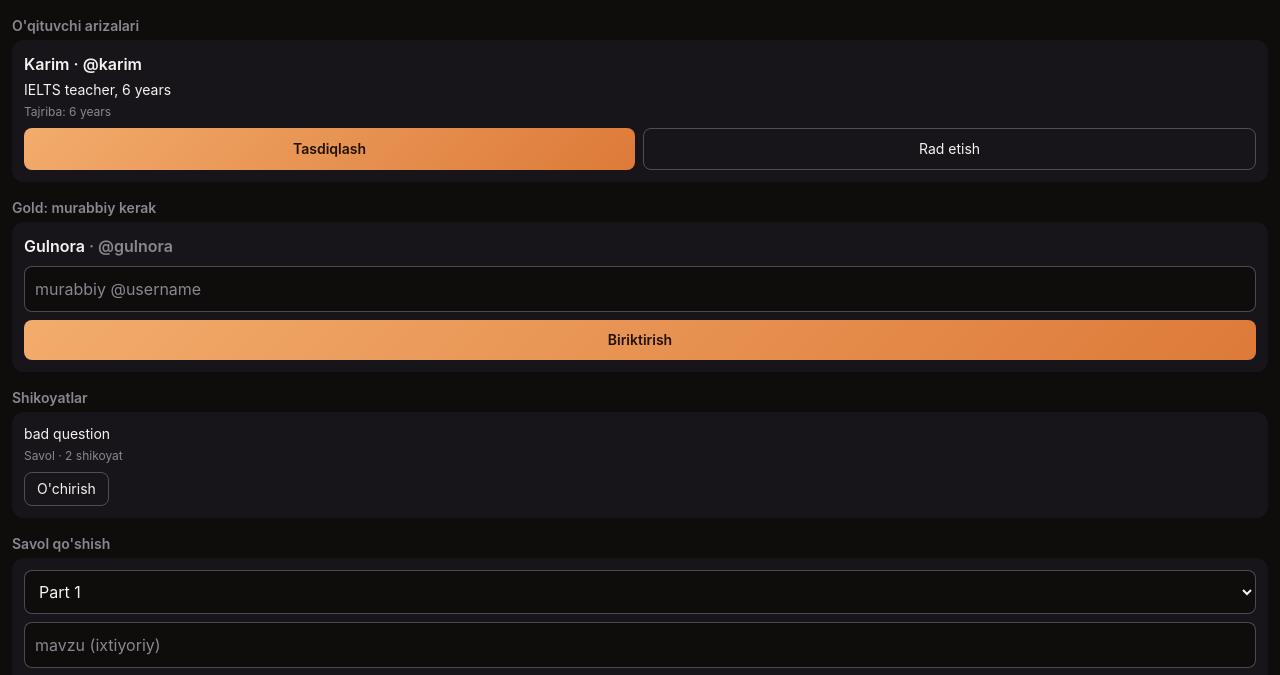
it: AdminScreen › approves an application and removes it from the list
This screenshot has width=1280, height=675.
Check: the text "Karim" is shown, box [24, 54, 70, 74]
Click the button "Tasdiqlash": x=330, y=149 [24, 128, 635, 170]
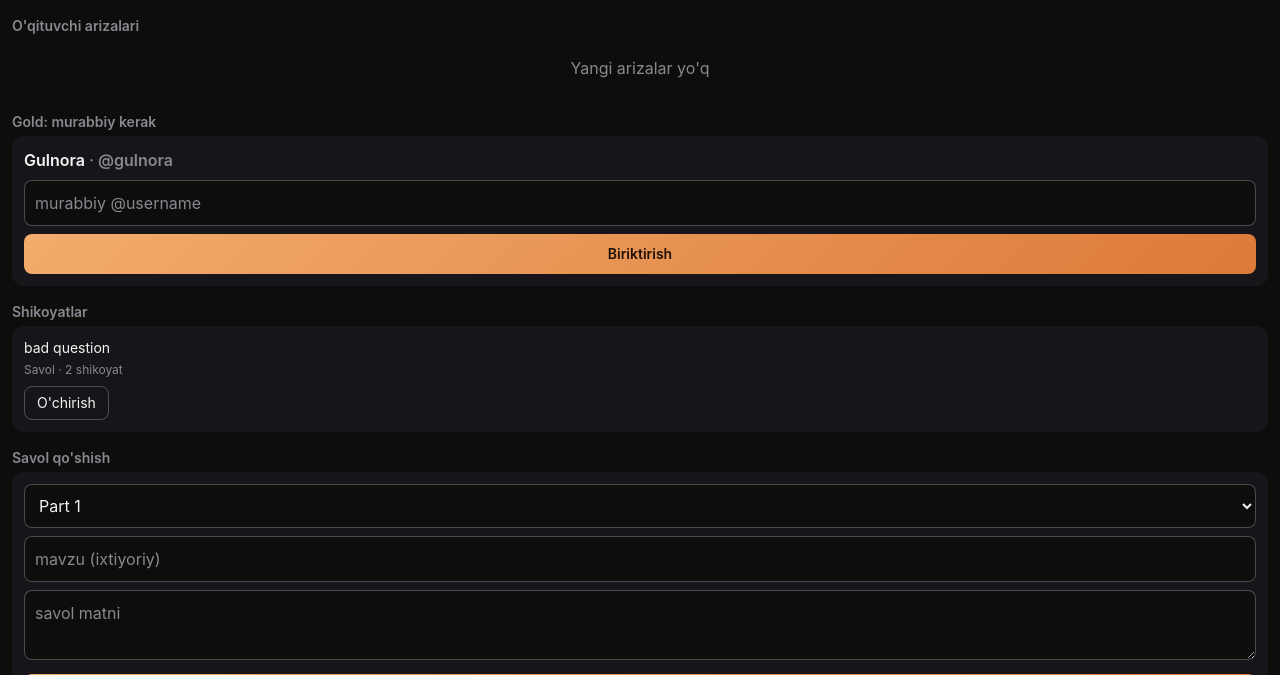
Check: the text "Karim" is gone
